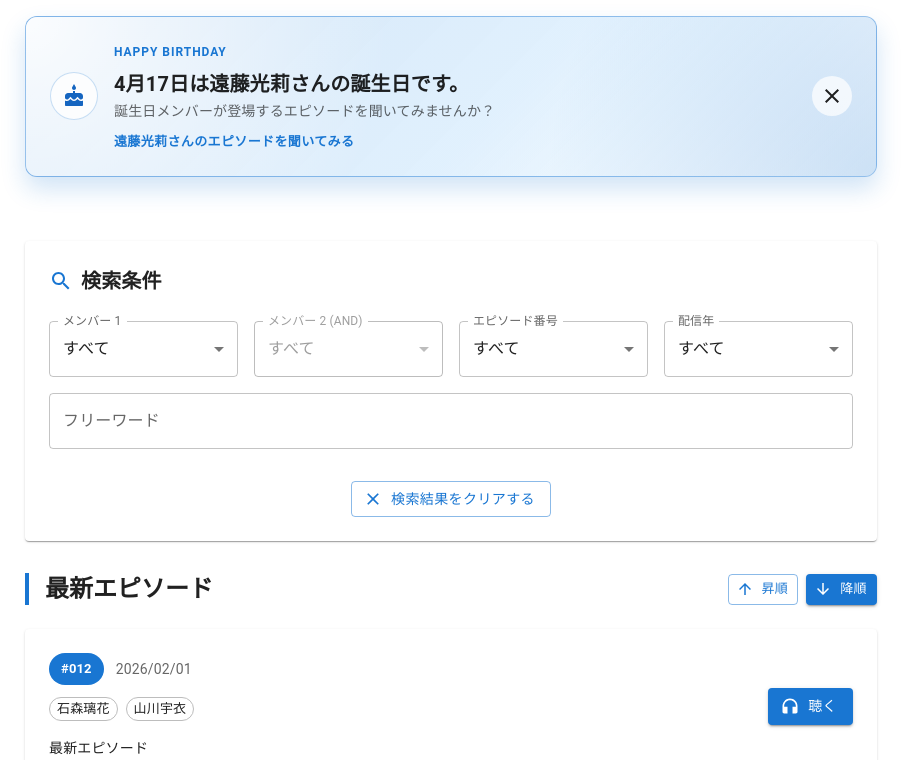
Test: SearchContainer › 検索結果が0件の場合に案内を表示する
Type "存在しない番組名" into the field labelled "フリーワード" at coordinates (451, 421), box 49,393 -> 853,449
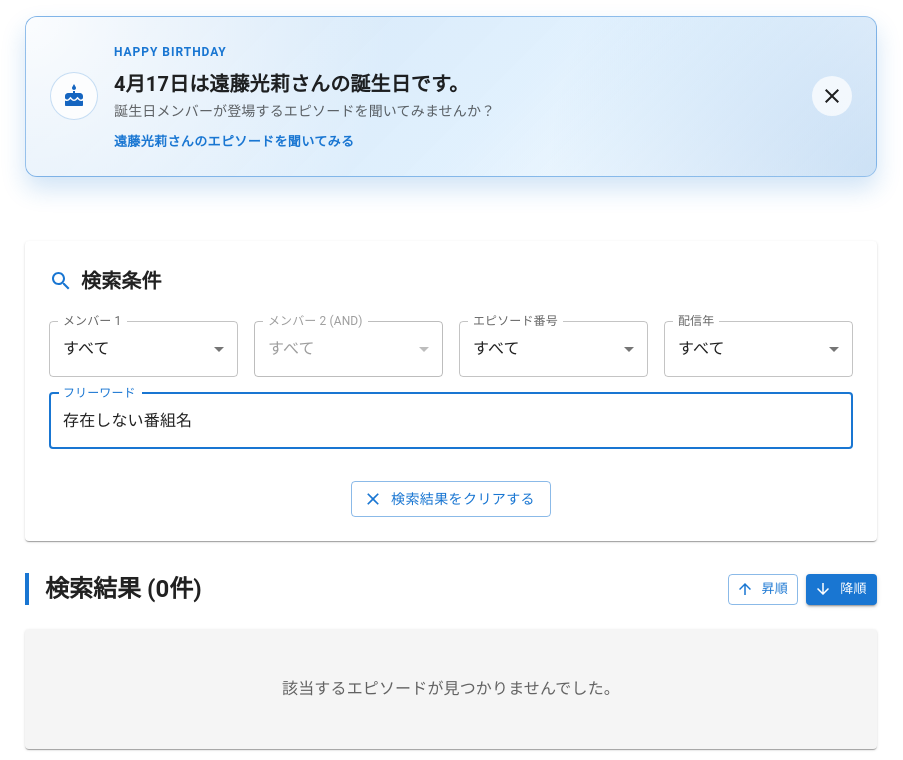
Now the heading "検索結果 (0件)" is shown, box 25,573 -> 202,605
Now the text "該当するエピソードが見つかりませんでした。" is shown, box 282,679 -> 620,698
